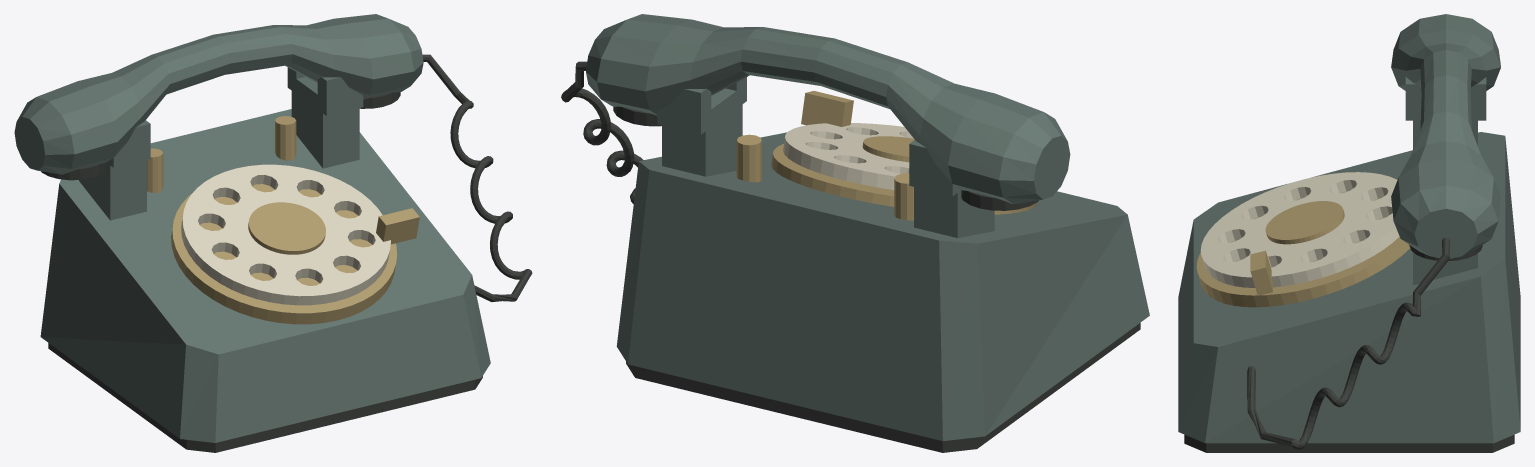
3 renders of one model, left to right at view 1: azimuth 30°, elevation 25°; view 2: azimuth 150°, elevation 25°; view 3: azimuth 270°, elevation 25°, orthographic. The views are drawn at different scales.
Visible parts, largest first — view 1: WholeSlopedTelephoneBody, WholeTwoEndedBridgedHandset, WholeTenBoreFingerDial, WholeDialSeatedBezel, WholeRearForkCradle1, WholeGroundRubberSole, WholeRearForkCradle-1, WholeBlankCentralDialMedallion, WholeContinuousFixedCoiledCord, WholeFixedFingerStop, WholeFixedHookSwitch1, WholeFixedHookSwitch-1 (+1 smaller); view 2: WholeSlopedTelephoneBody, WholeTwoEndedBridgedHandset, WholeRearForkCradle1, WholeTenBoreFingerDial, WholeGroundRubberSole, WholeRearForkCradle-1, WholeDialSeatedBezel, WholeContinuousFixedCoiledCord, WholeFixedFingerStop, WholeFixedHookSwitch1, WholeBlankCentralDialMedallion, WholeFixedHookSwitch-1 (+2 smaller); view 3: WholeSlopedTelephoneBody, WholeTwoEndedBridgedHandset, WholeTenBoreFingerDial, WholeDialSeatedBezel, WholeContinuousFixedCoiledCord, WholeGroundRubberSole, WholeBlankCentralDialMedallion, WholeRearForkCradle-1, WholeRearForkCradle1, WholeFixedFingerStop.
Boxes of the visible parts, <box> form: WholeSlopedTelephoneBody: <box>40,109,490,442</box>; WholeTwoEndedBridgedHandset: <box>14,14,423,174</box>; WholeTenBoreFingerDial: <box>181,164,390,305</box>; WholeDialSeatedBezel: <box>171,184,397,324</box>; WholeRearForkCradle1: <box>287,67,363,168</box>; WholeGroundRubberSole: <box>48,343,482,452</box>; WholeRearForkCradle-1: <box>79,120,150,220</box>; WholeBlankCentralDialMedallion: <box>248,202,325,254</box>; WholeContinuousFixedCoiledCord: <box>422,54,532,301</box>; WholeFixedFingerStop: <box>376,208,419,244</box>; WholeFixedHookSwitch1: <box>275,116,296,160</box>; WholeFixedHookSwitch-1: <box>147,148,163,192</box>; WholeSlopedTelephoneBody: <box>616,132,1149,441</box>; WholeTwoEndedBridgedHandset: <box>586,14,1070,204</box>; WholeRearForkCradle1: <box>657,77,746,176</box>; WholeTenBoreFingerDial: <box>783,123,913,189</box>; WholeGroundRubberSole: <box>626,323,1140,452</box>; WholeRearForkCradle-1: <box>909,140,994,238</box>; WholeDialSeatedBezel: <box>771,144,1036,214</box>; WholeContinuousFixedCoiledCord: <box>561,61,643,203</box>; WholeFixedFingerStop: <box>801,91,853,126</box>; WholeFixedHookSwitch1: <box>736,134,761,182</box>; WholeBlankCentralDialMedallion: <box>862,136,914,162</box>; WholeFixedHookSwitch-1: <box>894,173,913,220</box>; WholeSlopedTelephoneBody: <box>1178,132,1520,443</box>; WholeTwoEndedBridgedHandset: <box>1391,14,1500,258</box>; WholeTenBoreFingerDial: <box>1200,172,1399,287</box>; WholeDialSeatedBezel: <box>1196,191,1409,307</box>; WholeContinuousFixedCoiledCord: <box>1247,237,1450,449</box>; WholeGroundRubberSole: <box>1184,434,1514,452</box>; WholeBlankCentralDialMedallion: <box>1265,201,1344,244</box>; WholeRearForkCradle-1: <box>1405,77,1486,148</box>; WholeRearForkCradle1: <box>1413,252,1477,285</box>; WholeFixedFingerStop: <box>1250,250,1272,295</box>.
Bounding box in the file's own units: 0.4195 × 0.273 × 0.28.
